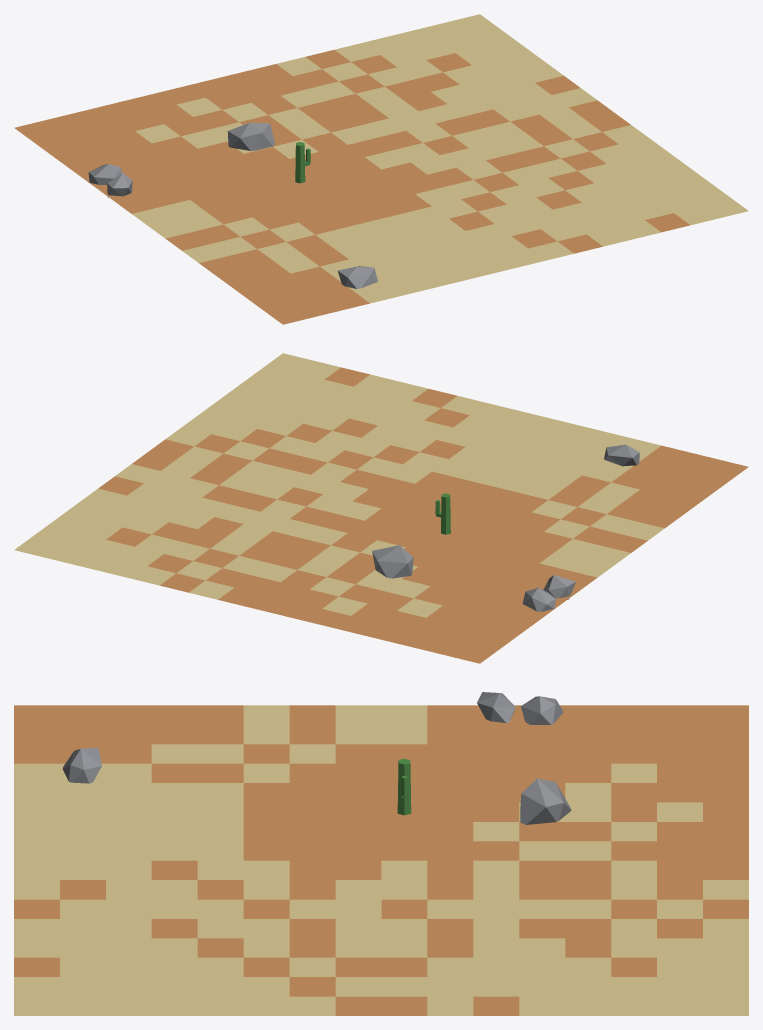
The model's file is chunk_10_22.glb.
The picture shows the model from 3 angles, top to bottom: view 1: azimuth 30°, elevation 25°; view 2: azimuth 150°, elevation 25°; view 3: azimuth 270°, elevation 25°; orthographic projection. The views are drawn at different scales.
Parts seen in each view (by area): view 1: chunk_10_22; view 2: chunk_10_22; view 3: chunk_10_22.
Part boxes in pixels (left/top/right/bottom): chunk_10_22: left=14, top=14, right=748, bottom=324; chunk_10_22: left=14, top=353, right=748, bottom=663; chunk_10_22: left=14, top=692, right=748, bottom=1015.
Size of the model in its own units: 16 by 1.68 by 16.
